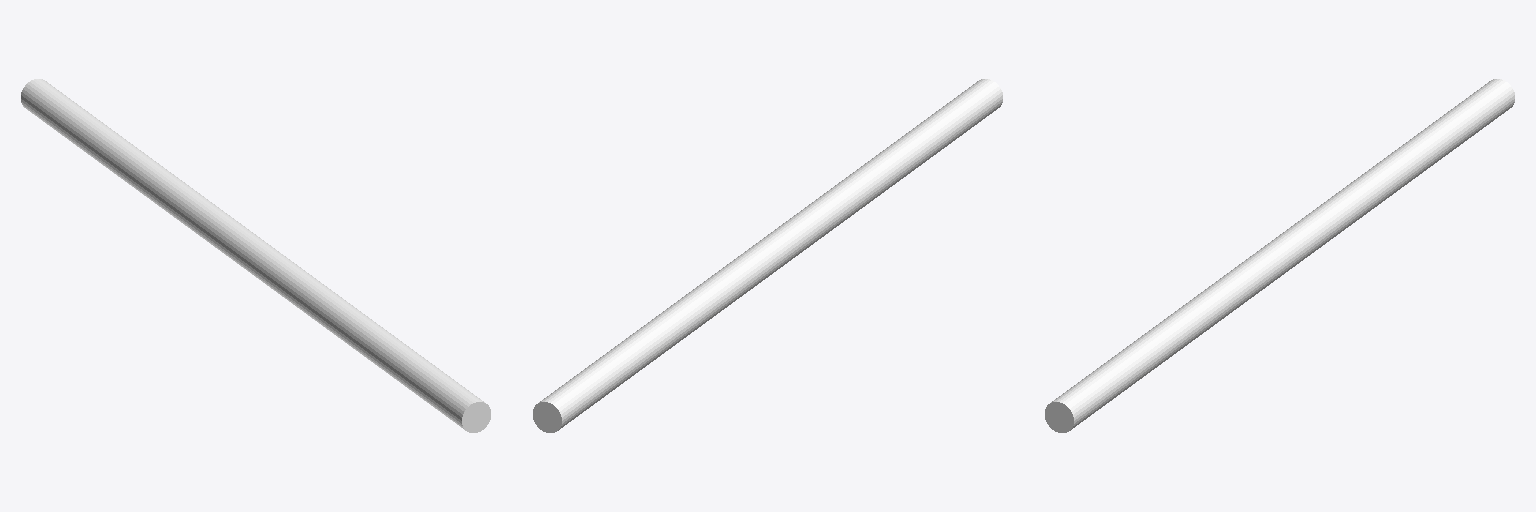
robot.urdf — melodie_cylinder:
<?xml version="1.0" ?>
<robot name="melodie_cylinder">
  <link name="baseLink">
    <contact>
      <lateral_friction value="1.0"/>
      <rolling_friction value="0.0"/>
      <contact_cfm value="0.0"/>
      <contact_erp value="1.0"/>
    </contact>
    <inertial>
      <origin rpy="0 0 0" xyz="0 0 0"/>
       <mass value="1.0"/>
       <inertia ixx="1" ixy="0" ixz="0" iyy="1" iyz="0" izz="1"/>
    </inertial>
    <visual>
      <origin rpy="0 0 0" xyz="0 0 0"/>
      <geometry>
				<mesh filename="cylinder_centered.obj" scale="1 1 1"/>
      </geometry>
       <material name="white">
        <color rgba="1 1 1 1"/>
      </material>
    </visual>
    <collision>
      <origin rpy="0 0 0" xyz="0 0 0"/>
      <geometry>
	 	<mesh filename="cylinder_centered.obj" scale="1 1 1"/>
      </geometry>
    </collision>
  </link>
</robot>

--- Facts derived from the render (not from the file) ---
The picture shows the robot from 3 angles, left to right: view 1: azimuth 30°, elevation 25°; view 2: azimuth 150°, elevation 25°; view 3: azimuth 330°, elevation 25°; orthographic projection.
Model melodie_cylinder with 1 links and 0 joints (none), rooted at baseLink, posed all joints at 0.
Visible links, largest first — view 1: baseLink; view 2: baseLink; view 3: baseLink.
Link boxes in pixels (<box>): baseLink: <box>21,79,490,432</box>; baseLink: <box>533,79,1002,432</box>; baseLink: <box>1045,79,1514,432</box>.
Size in the robot's own frame: 0.06 by 1.55 by 0.06 metres.
1 mesh visuals loaded from 1 distinct referenced files (1 OBJ).
